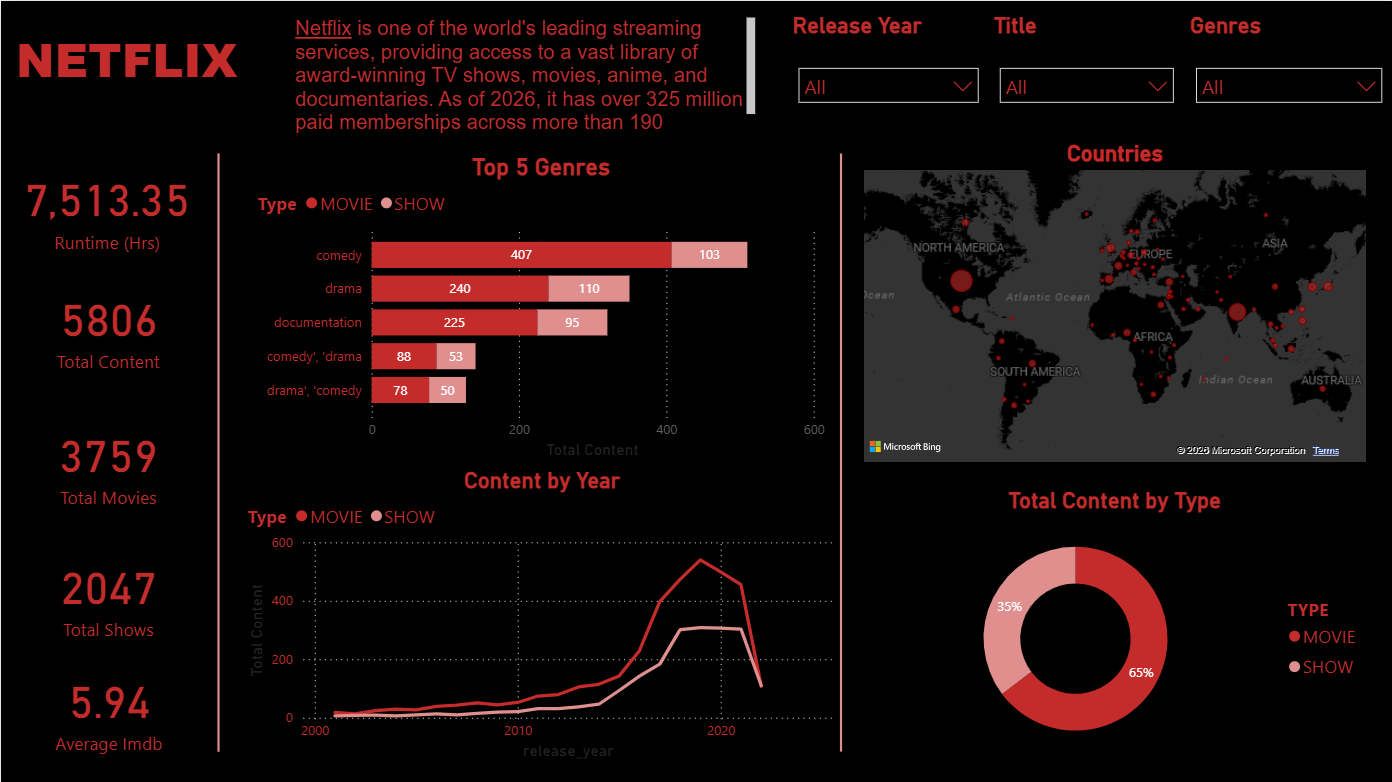

The dashboard page shown, as its layout file describes it:
{"tool":"powerbi","page":{"name":"Page 1","canvas":[1280,720],"ordinal":0},"visuals":[{"type":"card","fields":{"Values":["credits.Runtime (Hrs)"]},"box":[11.4,127.1,172.9,125.7],"z":0},{"type":"card","fields":{"Values":["credits.Total Content"]},"box":[12.9,240,172.9,120],"z":1000},{"type":"card","fields":{"Values":["credits.Total Movies"]},"box":[12.9,360,172.9,131.4],"z":2000},{"type":"card","fields":{"Values":["credits.Total Shows"]},"box":[12.9,491.4,172.9,110],"z":3000},{"type":"card","fields":{"Values":["credits.Average Imdb"]},"box":[14.3,601.4,171.4,101.4],"z":4000},{"type":"barChart","title":"Top 5 Genres","fields":{"Category":["titles.genres"],"Y":["All Measures.Total Content"],"Series":["titles.type"]},"box":[231.4,140,531.4,285.7],"z":5000},{"type":"lineChart","title":"Content by Year","fields":{"Category":["titles.release_year"],"Y":["All Measures.Total Content"],"Series":["titles.type"]},"box":[221.4,428.6,551.4,274.3],"z":6000},{"type":"map","title":"Countries","fields":{"Category":["titles.production_countries"],"Size":["All Measures.Runtime (Hrs)"]},"box":[788.6,127.1,471.4,301.4],"z":7000},{"type":"donutChart","title":"Total Content by Type","fields":{"Category":["titles.type"],"Y":["All Measures.Total Content"]},"box":[788.6,447.1,471.4,255.7],"z":8000},{"type":"slicer","title":"Release Year","fields":{"Values":["titles.release_year"]},"box":[722.9,10,185.7,91.4],"z":9000},{"type":"slicer","title":"Title","fields":{"Values":["titles.title"]},"box":[908.6,10,180,91.4],"z":10000},{"type":"slicer","title":"Genres","fields":{"Values":["titles.genres"]},"box":[1088.6,10,191.4,91.4],"z":11000},{"type":"textbox","box":[265.7,10,432.9,117.1],"z":12000},{"type":"textbox","box":[0,0,231.4,127.1],"z":12001},{"type":"shape","box":[100,140,200,550],"z":12002},{"type":"shape","box":[672.9,140,200,550],"z":12003}]}

Visuals, with their boxes in screenshot pixels (x1, y1, x2, y2), scaled from the page's 1280x720 canvas onto the 1392x782 screenshot:
card - credits.Runtime (Hrs): 12 138 200 275
card - credits.Total Content: 14 261 202 391
card - credits.Total Movies: 14 391 202 534
card - credits.Total Shows: 14 534 202 653
card - credits.Average Imdb: 16 653 202 763
"Top 5 Genres" barChart: 252 152 830 462
"Content by Year" lineChart: 241 466 840 763
"Countries" map: 858 138 1370 465
"Total Content by Type" donutChart: 858 486 1370 763
"Release Year" slicer: 786 11 988 110
"Title" slicer: 988 11 1184 110
"Genres" slicer: 1184 11 1391 110
textbox: 289 11 760 138
textbox: 0 0 252 138
shape: 109 152 326 749
shape: 732 152 949 749
